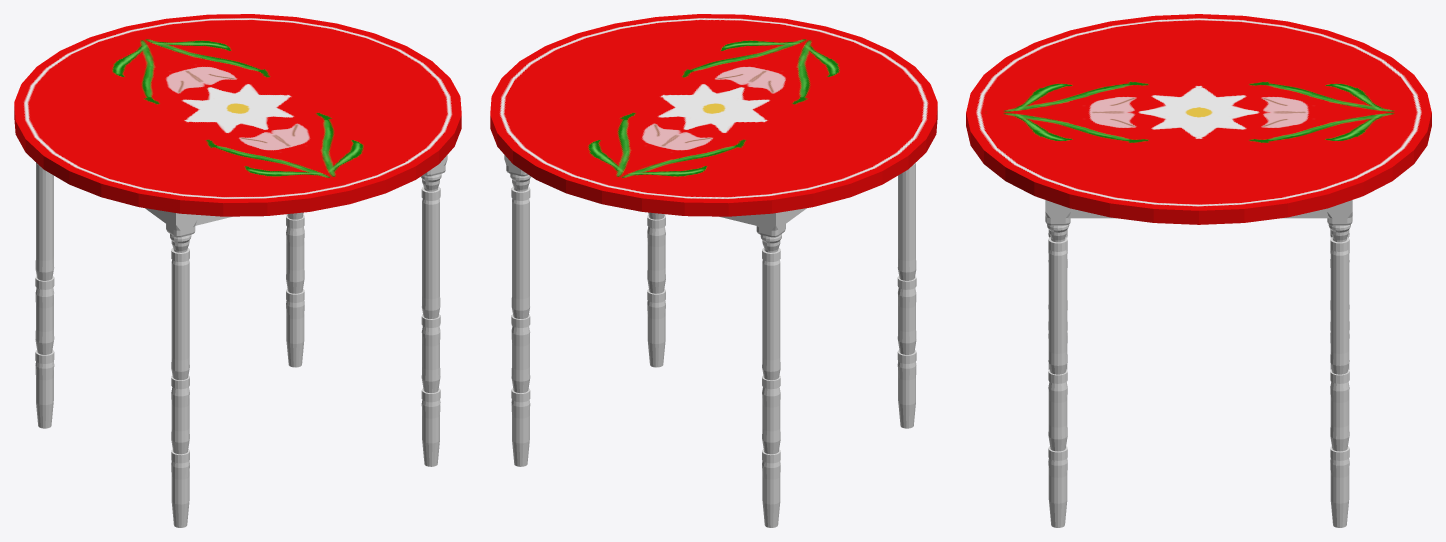
The model's file is mesasevillana.fbx.
3 renders of one model, left to right at view 1: azimuth 30°, elevation 25°; view 2: azimuth 150°, elevation 25°; view 3: azimuth 270°, elevation 25°, orthographic. The views are drawn at different scales.
Parts seen in each view (by area): view 1: Cilindro, Cubo.001, Anillo, Esquinas; view 2: Cilindro, Cubo.001, Anillo, Esquinas; view 3: Cilindro, Cubo.001, Anillo, Esquinas, Soporte inferior 2.
Part boxes in pixels (box(x1,y1,x2,y2)): Cilindro: box(14, 14, 461, 216); Cubo.001: box(35, 162, 441, 527); Anillo: box(35, 186, 440, 463); Esquinas: box(164, 155, 447, 237); Cilindro: box(490, 14, 937, 216); Cubo.001: box(510, 162, 916, 527); Anillo: box(511, 186, 916, 463); Esquinas: box(504, 155, 787, 237); Cilindro: box(966, 14, 1431, 224); Cubo.001: box(1047, 224, 1350, 527); Anillo: box(1048, 237, 1349, 460); Esquinas: box(1045, 200, 1352, 225); Soporte inferior 2: box(1068, 208, 1329, 218).
Size of the model in its own units: 60 by 60 by 49.64.
Materials: 1 (1 with a texture image).
